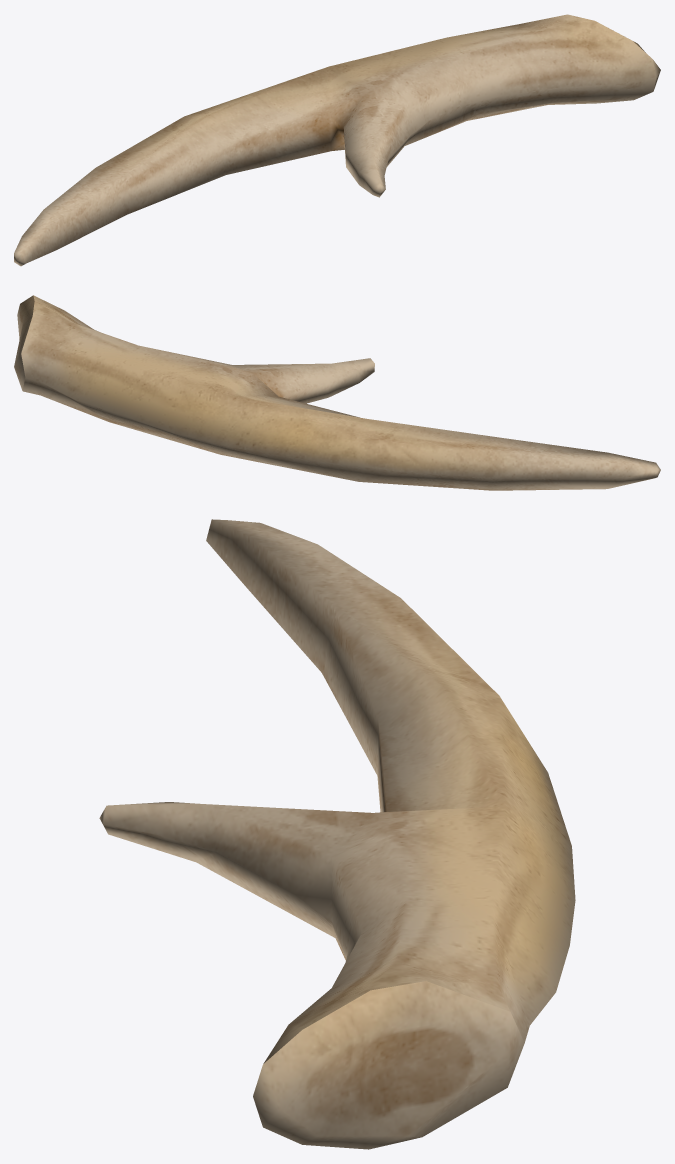
File: SM_Potion_Props_Loot_Horn_01_A.fbx
3 views of the same model, one above another, from view 1: azimuth 30°, elevation 25°; view 2: azimuth 150°, elevation 25°; view 3: azimuth 270°, elevation 25° (orthographic). The views are drawn at different scales.
Parts seen in each view (by area): view 1: SM_Potion_Props_Loot_Horn_01_A_LOD0; view 2: SM_Potion_Props_Loot_Horn_01_A_LOD0; view 3: SM_Potion_Props_Loot_Horn_01_A_LOD0.
Boxes of the visible parts, <box> form: SM_Potion_Props_Loot_Horn_01_A_LOD0: <box>14,14,660,266</box>; SM_Potion_Props_Loot_Horn_01_A_LOD0: <box>14,295,660,490</box>; SM_Potion_Props_Loot_Horn_01_A_LOD0: <box>99,519,575,1149</box>.
Size of what is drawn, in the model's own units: 26.14 by 3.13 by 8.6.
